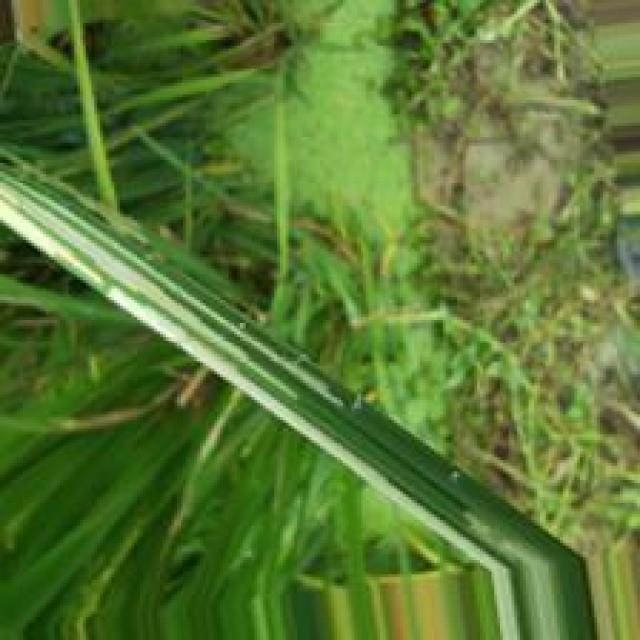Rice_Hispa: (0, 170, 521, 637)
